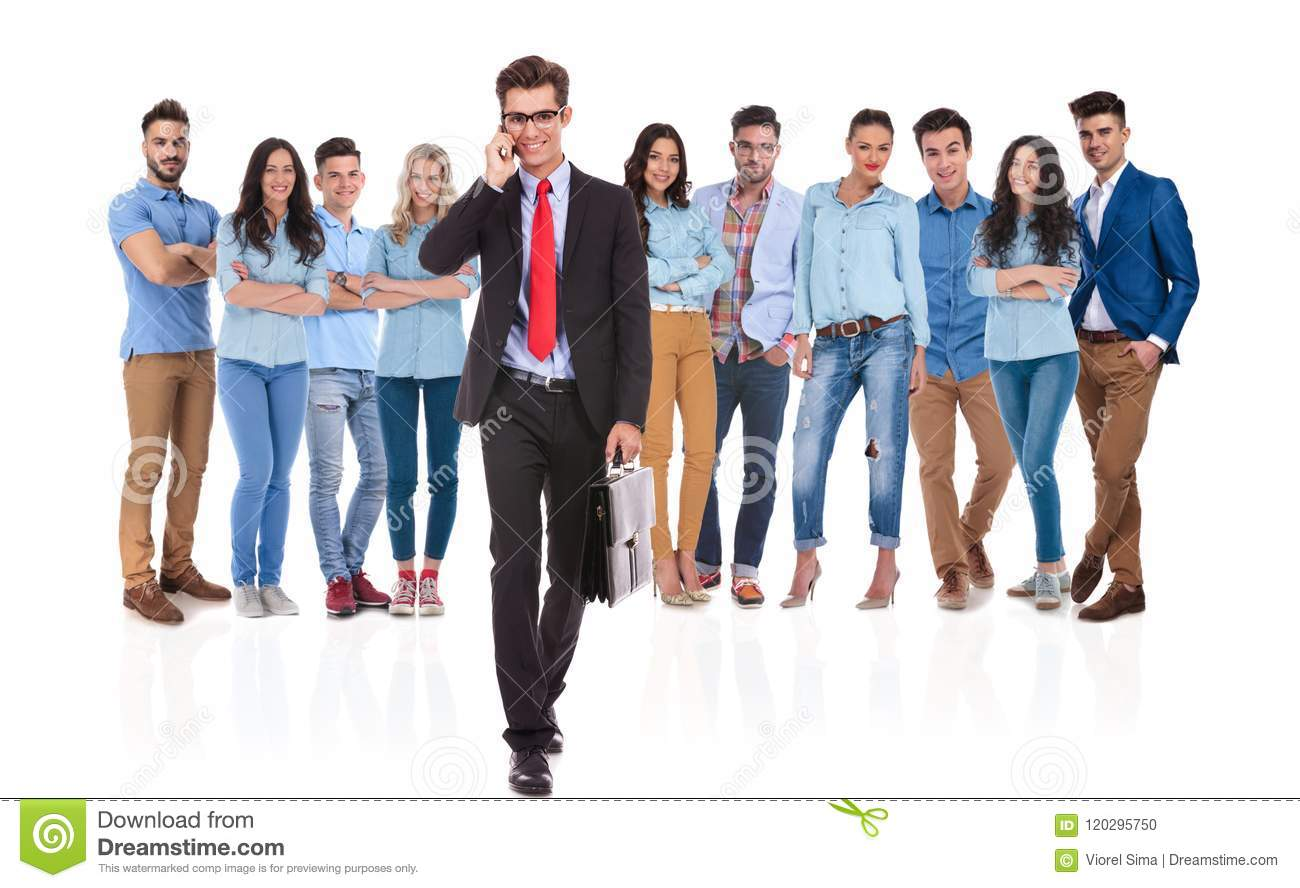phone: (492, 114, 515, 164)
talk: (485, 106, 560, 187)
